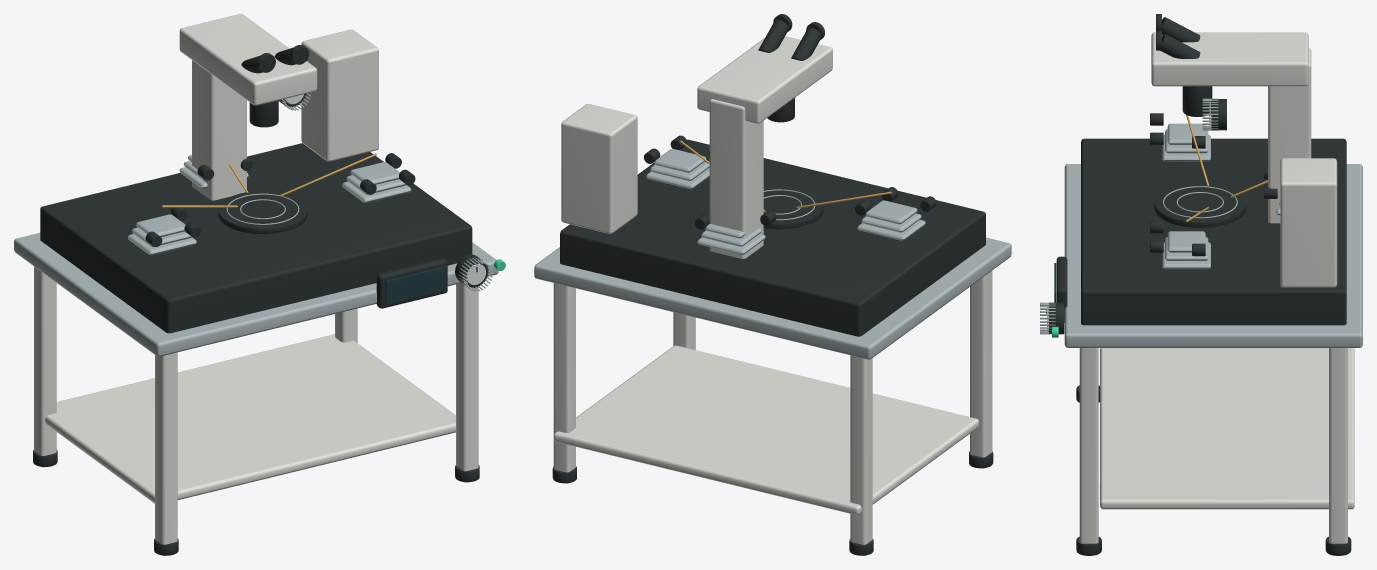
Rendered from probe.glb.
3 views of the same model, side by side, from view 1: azimuth 30°, elevation 25°; view 2: azimuth 150°, elevation 25°; view 3: azimuth 270°, elevation 25° (orthographic). The views are drawn at different scales.
Visible parts, largest first — view 1: Equipment_probe_Ceramic ivory, Equipment_probe_Knurled graphite, Equipment_probe_Brushed stainless, Probe_D_Brushed stainless, Probe_S_Brushed stainless, LCD.018; view 2: Equipment_probe_Ceramic ivory, Equipment_probe_Knurled graphite, Equipment_probe_Brushed stainless, Probe_S_Brushed stainless, Probe_D_Brushed stainless, Probe_G_Brushed stainless; view 3: Equipment_probe_Ceramic ivory, Equipment_probe_Knurled graphite, Equipment_probe_Brushed stainless, Probe_D_Brushed stainless, Probe_S_Brushed stainless, Knob_focus.001, Knob_main.018.
Part boxes in pixels (box(x1,y1,x2,y2)): Equipment_probe_Ceramic ivory: box(34, 14, 478, 555); Equipment_probe_Knurled graphite: box(33, 45, 479, 555); Equipment_probe_Brushed stainless: box(14, 92, 498, 356); Probe_D_Brushed stainless: box(342, 162, 411, 202); Probe_S_Brushed stainless: box(127, 214, 196, 255); LCD.018: box(385, 266, 445, 304); Equipment_probe_Ceramic ivory: box(553, 36, 992, 555); Equipment_probe_Knurled graphite: box(552, 14, 993, 555); Equipment_probe_Brushed stainless: box(534, 189, 1011, 359); Probe_S_Brushed stainless: box(857, 200, 925, 240); Probe_D_Brushed stainless: box(646, 149, 709, 189); Probe_G_Brushed stainless: box(697, 224, 765, 254); Equipment_probe_Ceramic ivory: box(1079, 32, 1354, 543); Equipment_probe_Knurled graphite: box(1046, 14, 1351, 555); Equipment_probe_Brushed stainless: box(1040, 98, 1362, 347); Probe_D_Brushed stainless: box(1162, 231, 1210, 269); Probe_S_Brushed stainless: box(1162, 123, 1210, 161); Knob_focus.001: box(1211, 99, 1226, 130); Knob_main.018: box(1048, 302, 1064, 334).
Bounding box in the file's own units: 1.5 × 1.85 × 1.19.
